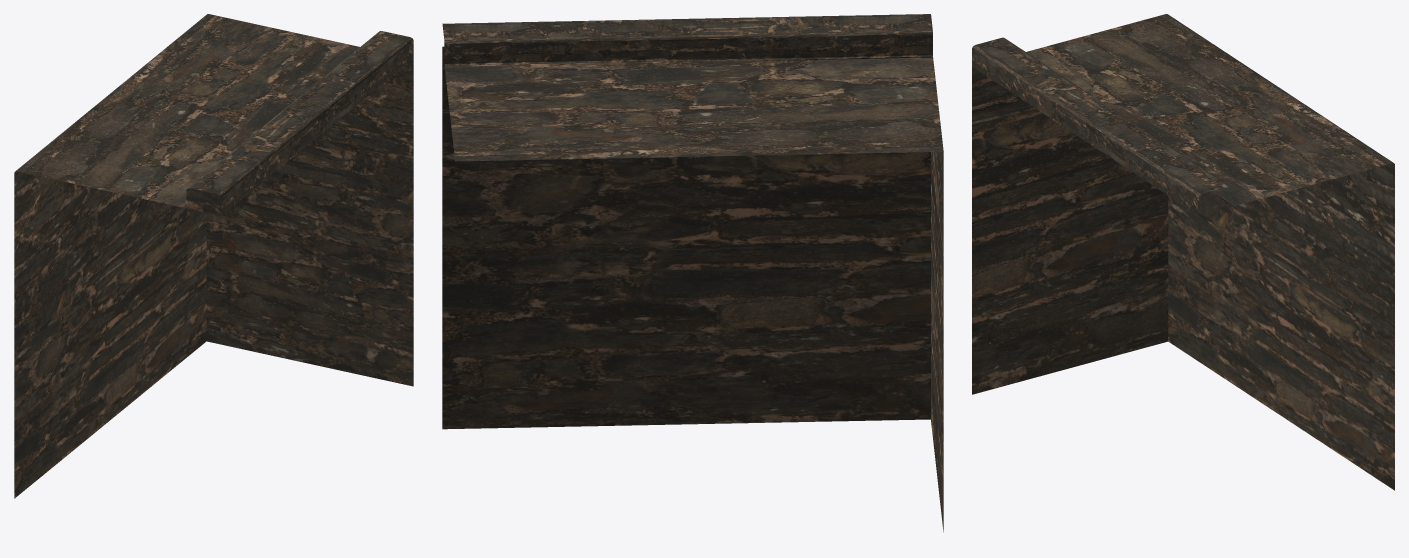
File: block_44.glb
3 views of the same model, side by side, from view 1: azimuth 30°, elevation 25°; view 2: azimuth 150°, elevation 25°; view 3: azimuth 270°, elevation 25° (orthographic). The views are drawn at different scales.
Parts seen in each view (by area): view 1: block_44; view 2: block_44; view 3: block_44.
Boxes of the visible parts, x1=… form: block_44: x1=14, y1=14, x2=413, y2=498; block_44: x1=442, y1=14, x2=943, y2=532; block_44: x1=972, y1=14, x2=1394, y2=490.
Size of the model in its own units: 2.44 by 1.96 by 2.15.
Materials: 2 (2 with a texture image).
